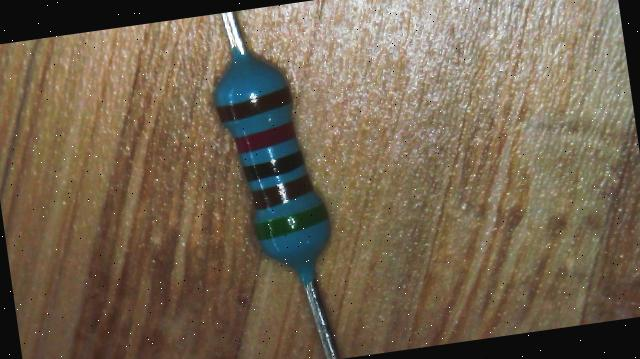black: (242, 148, 306, 181)
brown: (214, 84, 294, 122), (250, 174, 314, 209)
green: (254, 204, 328, 240)
red: (234, 120, 296, 152)
resistor: (206, 37, 336, 282)
